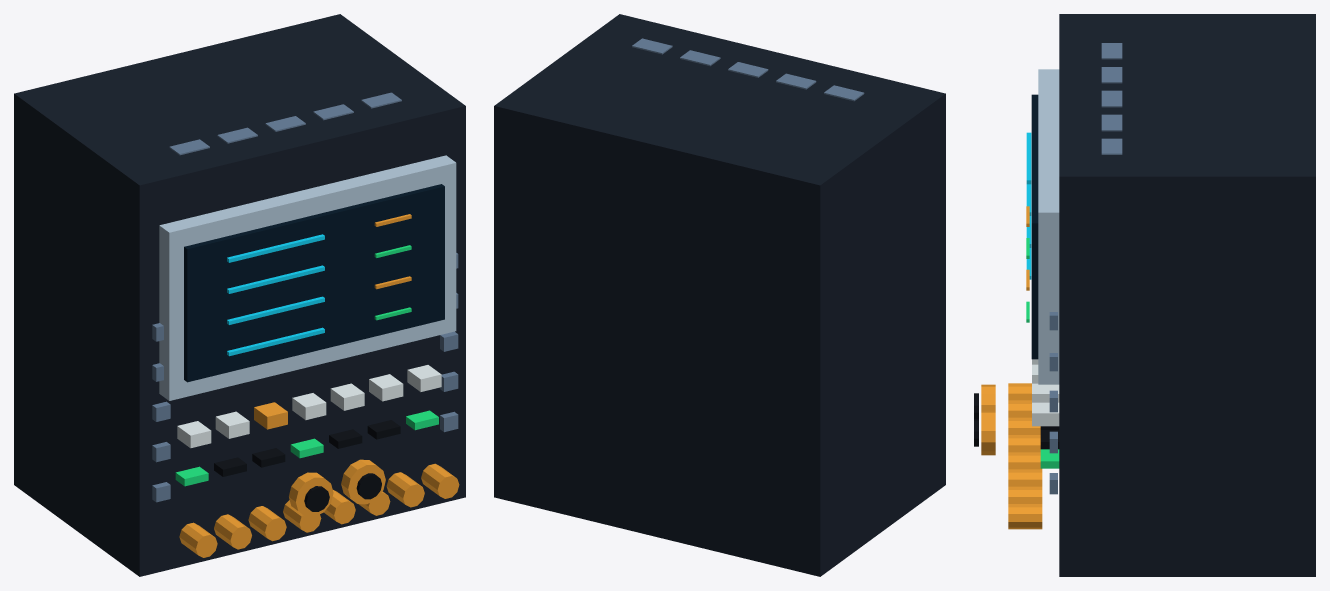
File: 89_L89_EmergencyShelterCommunications.fbx
3 views of the same model, side by side, from view 1: azimuth 30°, elevation 25°; view 2: azimuth 150°, elevation 25°; view 3: azimuth 270°, elevation 25° (orthographic). The views are drawn at different scales.
Visible parts, largest first — view 1: L87_EmergencyShelterCommunications_Part_0000, L87_EmergencyShelterCommunications_Part_0002, L87_EmergencyShelterCommunications_Part_0001, L87_EmergencyShelterCommunications_Part_0004, L87_EmergencyShelterCommunications_Part_0008, L87_EmergencyShelterCommunications_Part_0006, L87_EmergencyShelterCommunications_Part_0003, L87_EmergencyShelterCommunications_Part_0007, L87_EmergencyShelterCommunications_Part_0005, L87_EmergencyShelterCommunications_Part_0011, L87_EmergencyShelterCommunications_Part_0009; view 2: L87_EmergencyShelterCommunications_Part_0000, L87_EmergencyShelterCommunications_Part_0008; view 3: L87_EmergencyShelterCommunications_Part_0000, L87_EmergencyShelterCommunications_Part_0001, L87_EmergencyShelterCommunications_Part_0004, L87_EmergencyShelterCommunications_Part_0008, L87_EmergencyShelterCommunications_Part_0002, L87_EmergencyShelterCommunications_Part_0006, L87_EmergencyShelterCommunications_Part_0003, L87_EmergencyShelterCommunications_Part_0011, L87_EmergencyShelterCommunications_Part_0005.
Boxes of the visible parts, x1,y1,x2,y2 form: L87_EmergencyShelterCommunications_Part_0000: [14, 14, 465, 576]; L87_EmergencyShelterCommunications_Part_0002: [184, 184, 444, 382]; L87_EmergencyShelterCommunications_Part_0001: [159, 155, 456, 400]; L87_EmergencyShelterCommunications_Part_0004: [179, 214, 459, 557]; L87_EmergencyShelterCommunications_Part_0008: [152, 92, 458, 502]; L87_EmergencyShelterCommunications_Part_0006: [177, 365, 441, 448]; L87_EmergencyShelterCommunications_Part_0003: [227, 234, 324, 356]; L87_EmergencyShelterCommunications_Part_0007: [214, 420, 400, 476]; L87_EmergencyShelterCommunications_Part_0005: [175, 245, 438, 486]; L87_EmergencyShelterCommunications_Part_0011: [341, 459, 385, 504]; L87_EmergencyShelterCommunications_Part_0009: [289, 472, 333, 516]; L87_EmergencyShelterCommunications_Part_0000: [494, 14, 945, 576]; L87_EmergencyShelterCommunications_Part_0008: [632, 38, 864, 101]; L87_EmergencyShelterCommunications_Part_0000: [1059, 14, 1315, 576]; L87_EmergencyShelterCommunications_Part_0001: [1038, 69, 1059, 384]; L87_EmergencyShelterCommunications_Part_0004: [1008, 206, 1042, 529]; L87_EmergencyShelterCommunications_Part_0008: [1049, 43, 1122, 494]; L87_EmergencyShelterCommunications_Part_0002: [1031, 94, 1038, 359]; L87_EmergencyShelterCommunications_Part_0006: [1032, 359, 1059, 426]; L87_EmergencyShelterCommunications_Part_0003: [1026, 132, 1031, 279]; L87_EmergencyShelterCommunications_Part_0011: [981, 410, 995, 455]; L87_EmergencyShelterCommunications_Part_0005: [1026, 238, 1059, 468].
Size of the model in its own units: 112 by 129 by 99.6.
